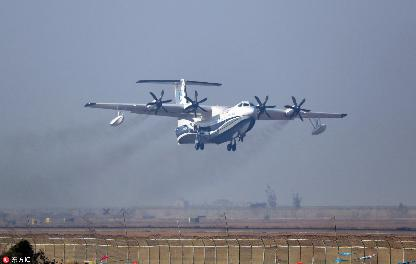AG600: (84, 78, 346, 150)
